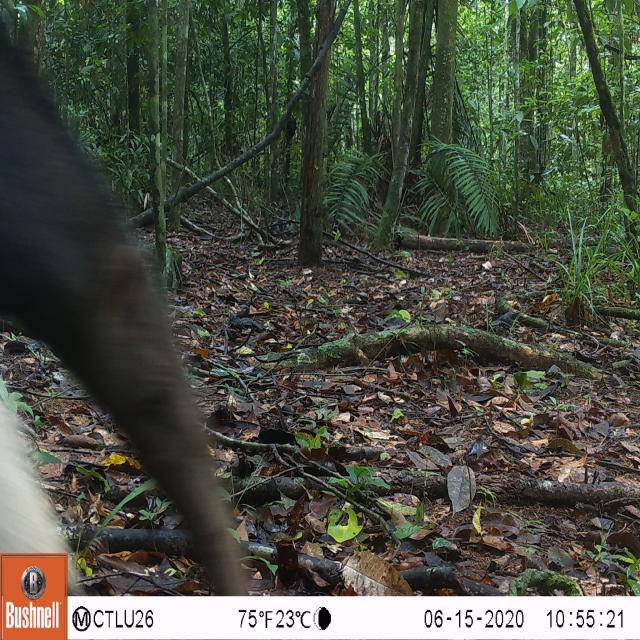Giant Anteater: (0, 4, 262, 594)
